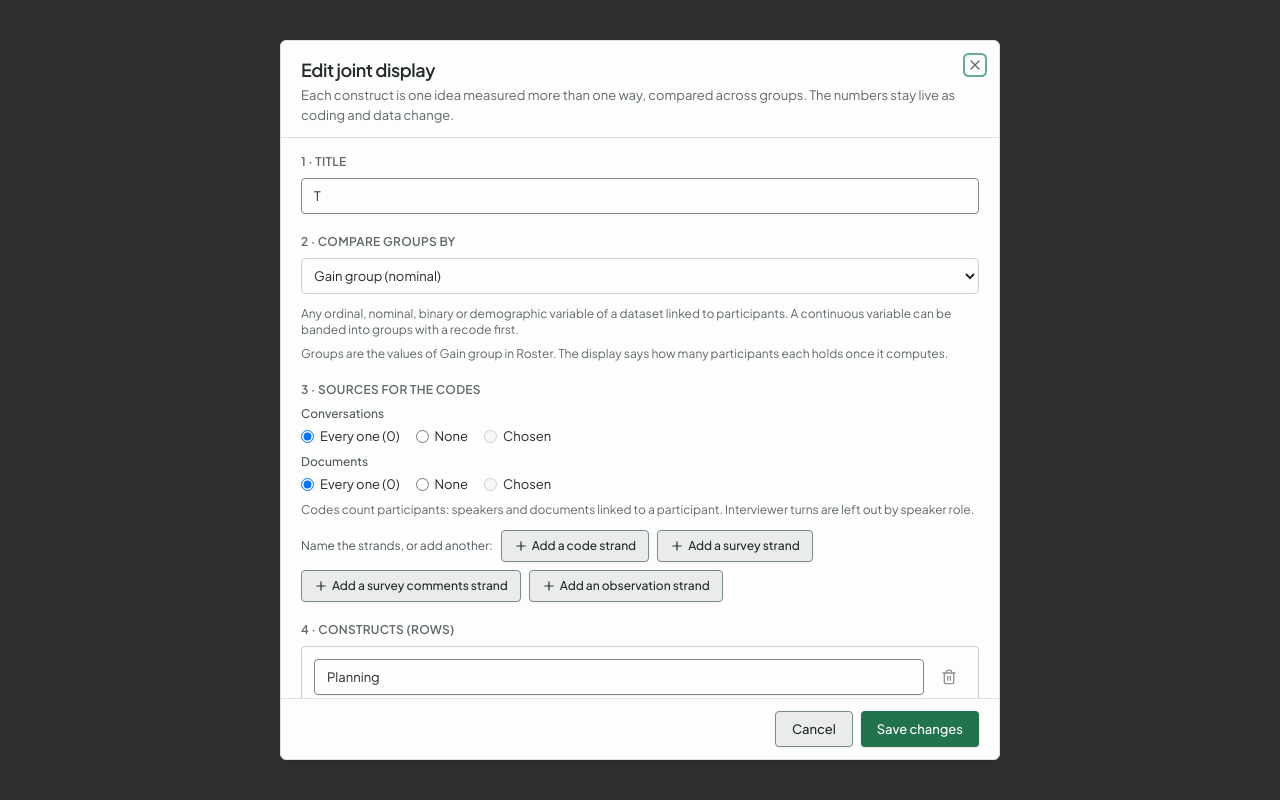
Test case: #1688 (D370) — the ask after a kept regroup names the groups, never a guessed variable › choosing no variable reads Remove the grouping
Select "Choose a variable…" in the dropdown named "Variable that forms the groups" at (640, 276), box [301,258,979,294]
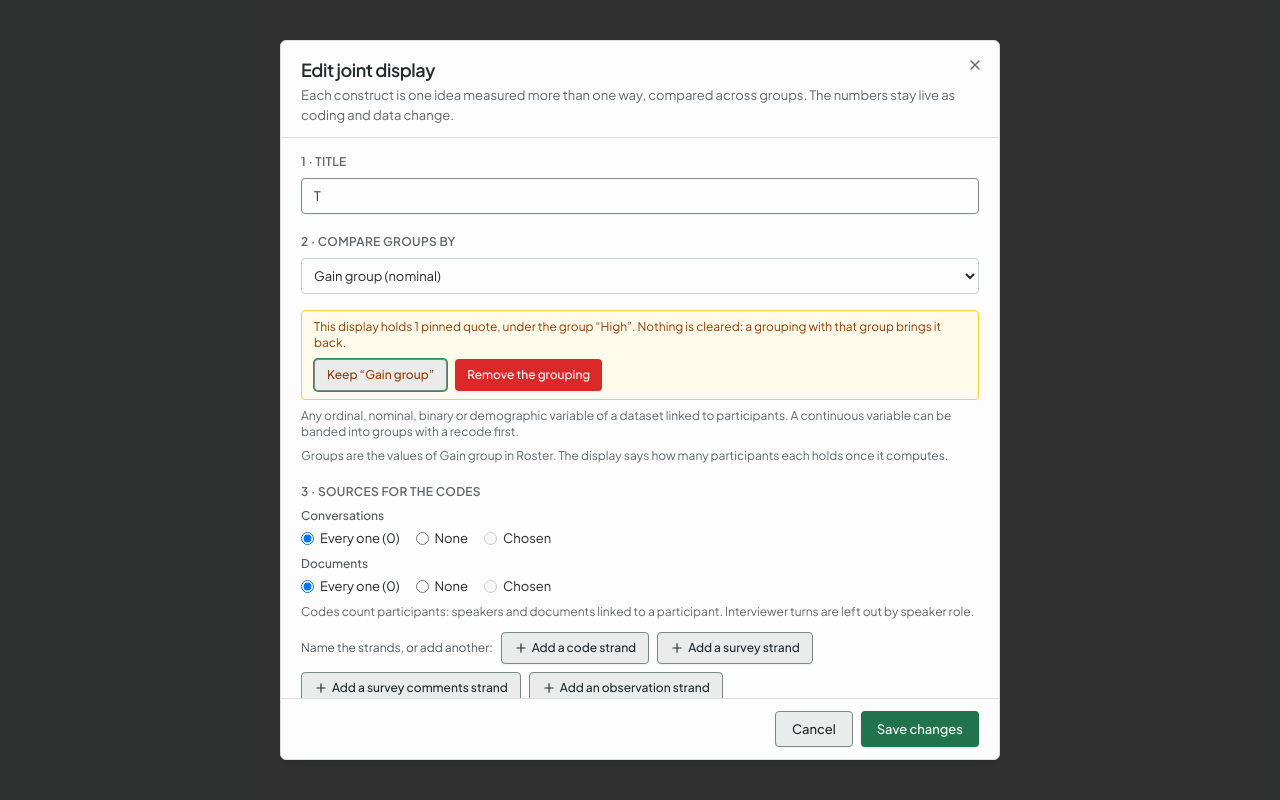
Expected: the button "Remove the grouping" is shown, [455,359,602,391]
